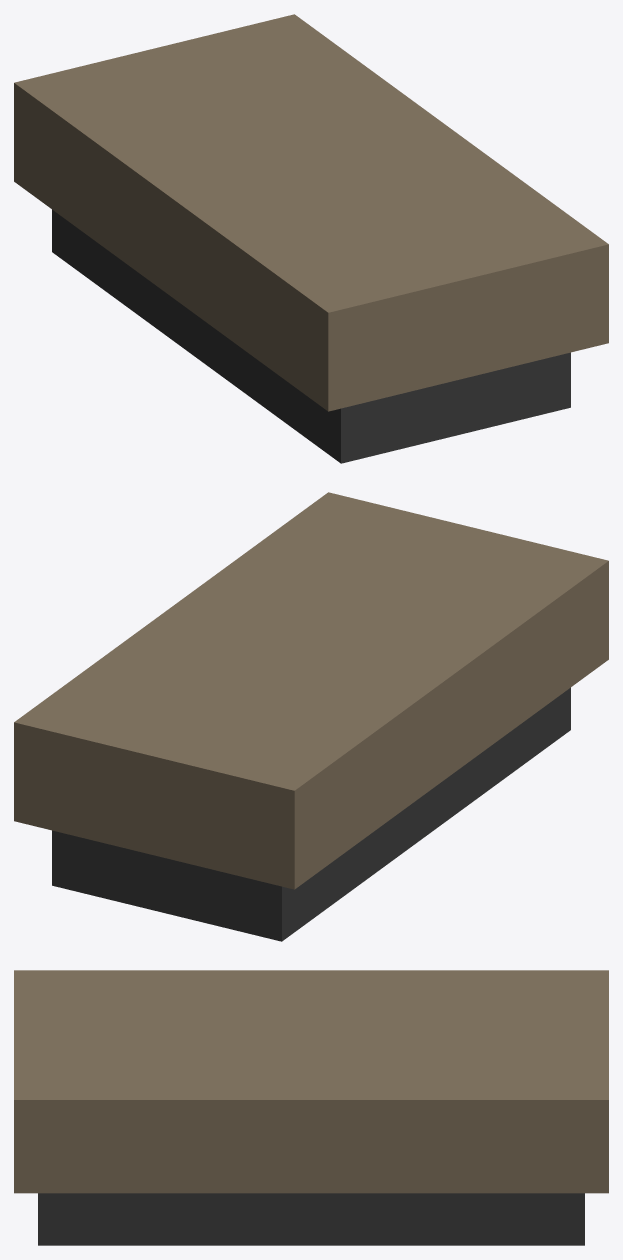
Rendered from borrador.fbx.
3 renders of one model, top to bottom at view 1: azimuth 30°, elevation 25°; view 2: azimuth 150°, elevation 25°; view 3: azimuth 270°, elevation 25°, orthographic. The views are drawn at different scales.
Visible parts, largest first — view 1: pCube1; view 2: pCube1; view 3: pCube1.
Boxes of the visible parts, left/top/right/bottom form: pCube1: left=14, top=14, right=608, bottom=463; pCube1: left=14, top=492, right=608, bottom=941; pCube1: left=14, top=970, right=608, bottom=1245.
Size of the model in its own units: 1.49 by 0.8416 by 2.88.
